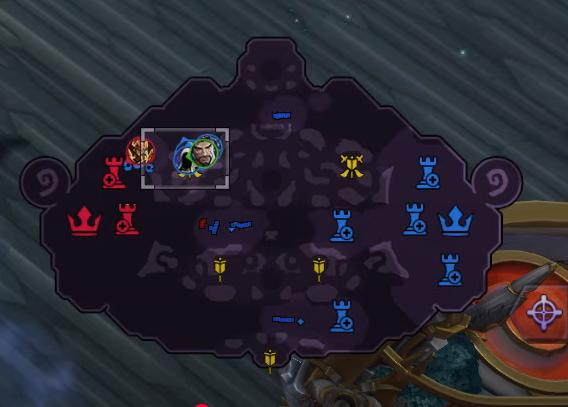blue nexus: (435, 202, 478, 238)
blue player: (188, 133, 223, 169), (171, 146, 210, 175)
blue tower: (435, 251, 467, 288), (327, 298, 358, 334), (328, 207, 357, 245), (401, 200, 428, 237), (414, 157, 442, 192)
red nexus: (66, 204, 102, 236)
red player: (123, 131, 160, 167)
red tower: (112, 199, 141, 238), (100, 157, 126, 192)
